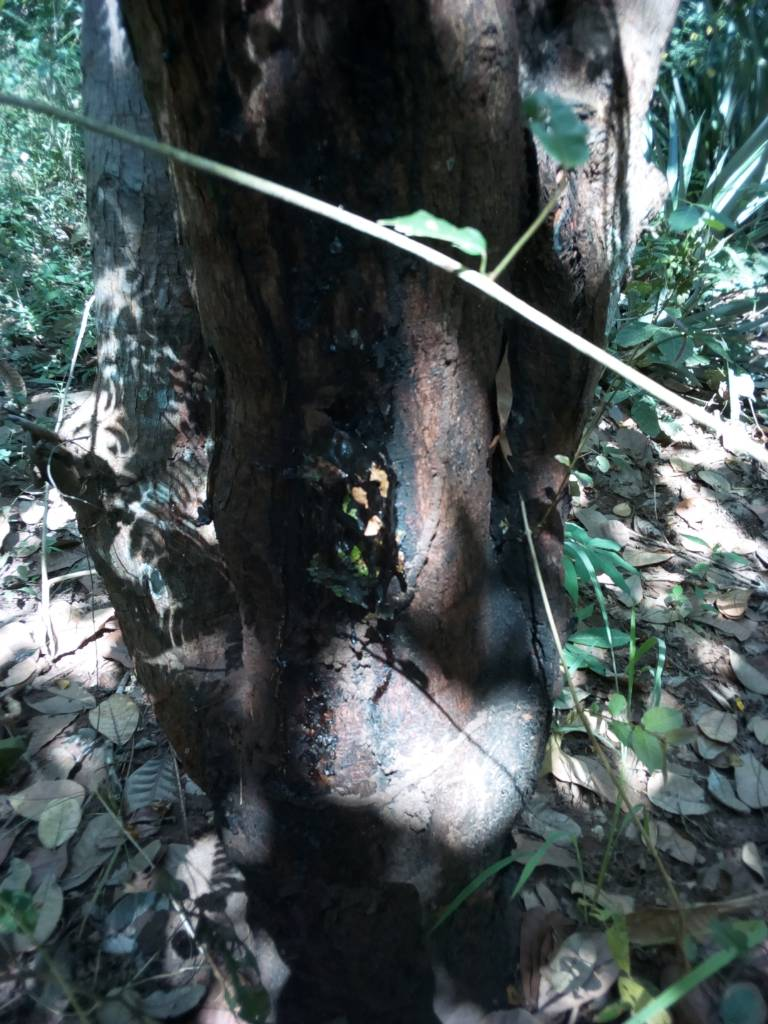Gommose: (263, 236, 408, 805)
